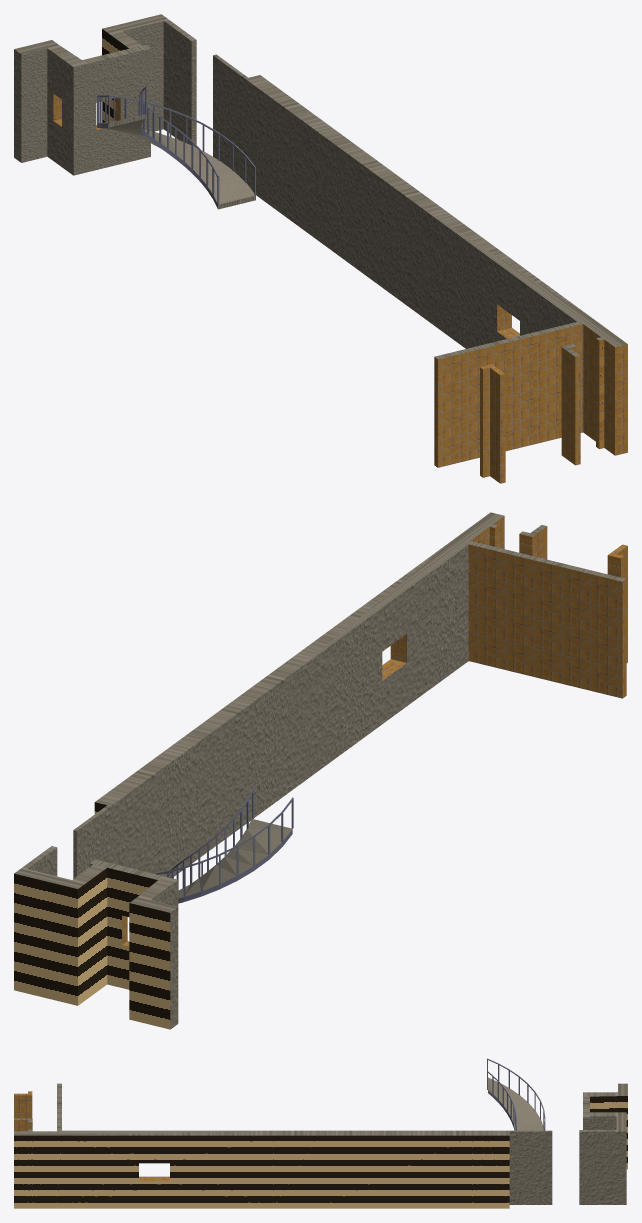
The model's file is couloir_f1.obj.
3 renders of one model, top to bottom at view 1: azimuth 30°, elevation 25°; view 2: azimuth 150°, elevation 25°; view 3: azimuth 270°, elevation 25°, orthographic. The views are drawn at different scales.
Visible parts, largest first — view 1: couloir_f1_Cube_Cube.006; view 2: couloir_f1_Cube_Cube.006; view 3: couloir_f1_Cube_Cube.006.
Part boxes in pixels (left/top/right/bottom): couloir_f1_Cube_Cube.006: left=14, top=14, right=627, bottom=483; couloir_f1_Cube_Cube.006: left=14, top=512, right=627, bottom=1029; couloir_f1_Cube_Cube.006: left=14, top=1058, right=627, bottom=1208.
Bounding box in the file's own units: 3.56 × 2.87 × 16.75.
